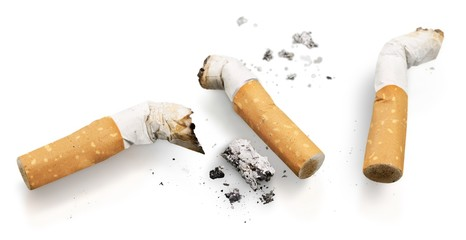cigarette: (197, 51, 328, 181), (15, 98, 191, 192), (362, 22, 448, 191)
